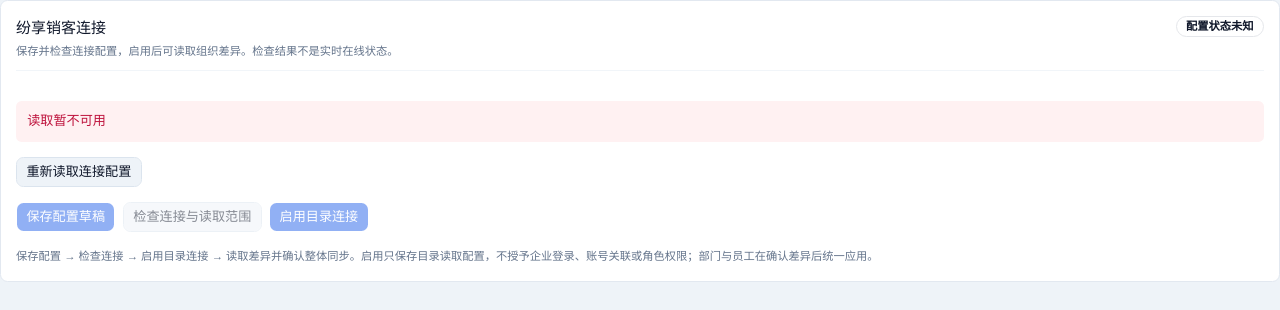
Test: keeps failed configuration reads unknown and offers a read-only retry
This screenshot has width=1280, height=310.
Check: the text "配置状态未知" is shown, box left=1176, top=16, right=1264, bottom=37
Check: the button "检查连接与读取范围" is disabled, box left=123, top=202, right=262, bottom=232
Step 1. Click the button "重新读取连接配置" → (79, 172), box left=16, top=157, right=142, bottom=187
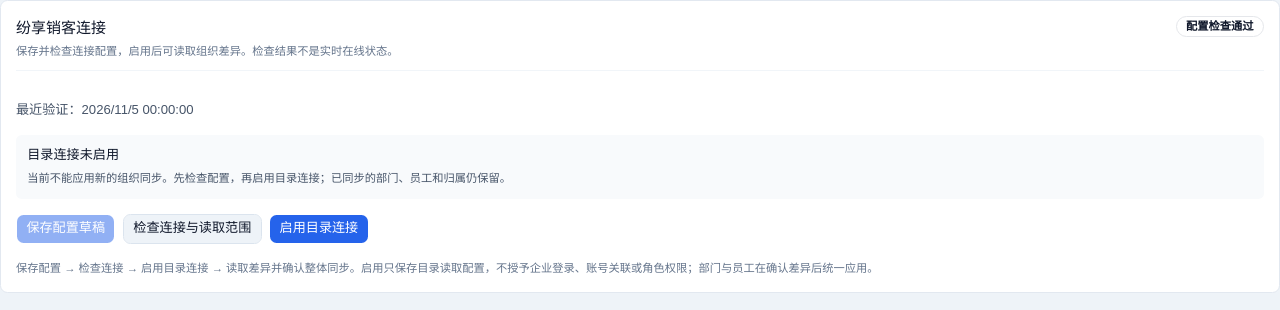
Check: the text "配置检查通过" is shown, box left=1176, top=16, right=1264, bottom=37
Check: the message "读取暂不可用" is gone
